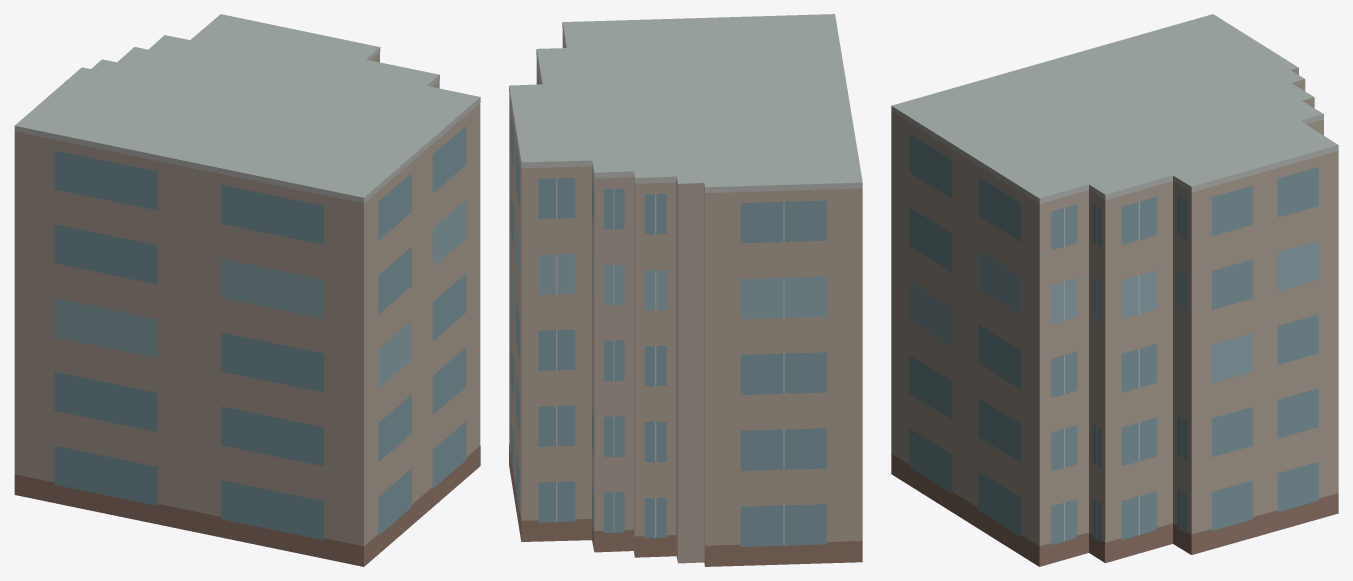
The model's file is survey-upis-32886002.glb.
The picture shows the model from 3 angles, left to right: view 1: azimuth 30°, elevation 25°; view 2: azimuth 150°, elevation 25°; view 3: azimuth 270°, elevation 25°; orthographic projection. The views are drawn at different scales.
Parts seen in each view (by area): view 1: survey-upis-32886002.tmp; view 2: survey-upis-32886002.tmp; view 3: survey-upis-32886002.tmp.
Boxes of the visible parts, box(x1,y1,x2,y2) form: survey-upis-32886002.tmp: box(14, 14, 480, 566); survey-upis-32886002.tmp: box(509, 14, 862, 566); survey-upis-32886002.tmp: box(891, 14, 1338, 566).
Size of the model in its own units: 17.09 by 15.9 by 17.51.
